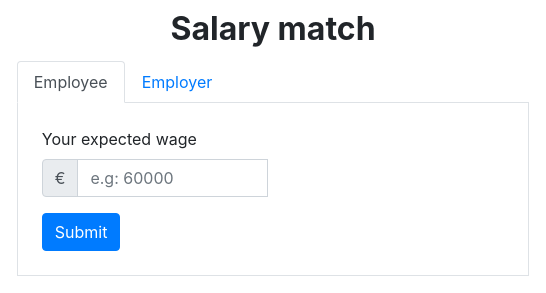
it: Basic test › Interacts with Tabs
This screenshot has width=546, height=293.
Step 1. Click the link "Employer" → (178, 82), box [142,72,213,92]
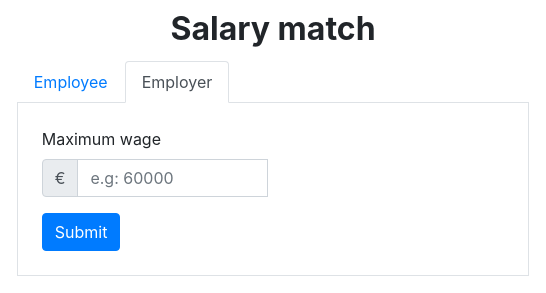
expect the link "Employer" is shown: met, box [125,61,229,103]
expect the text "Maximum wage" is shown: met, box [42,127,161,151]
Step 2. Click the link "Employee" → (71, 82), box [34,72,108,92]
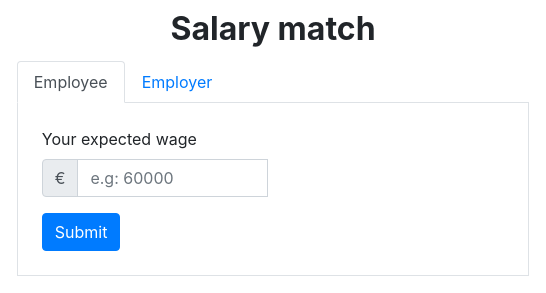
expect the link "Employee" is shown: met, box [17,61,125,103]
expect the text "Your expected wage" is shown: met, box [42,127,197,151]
